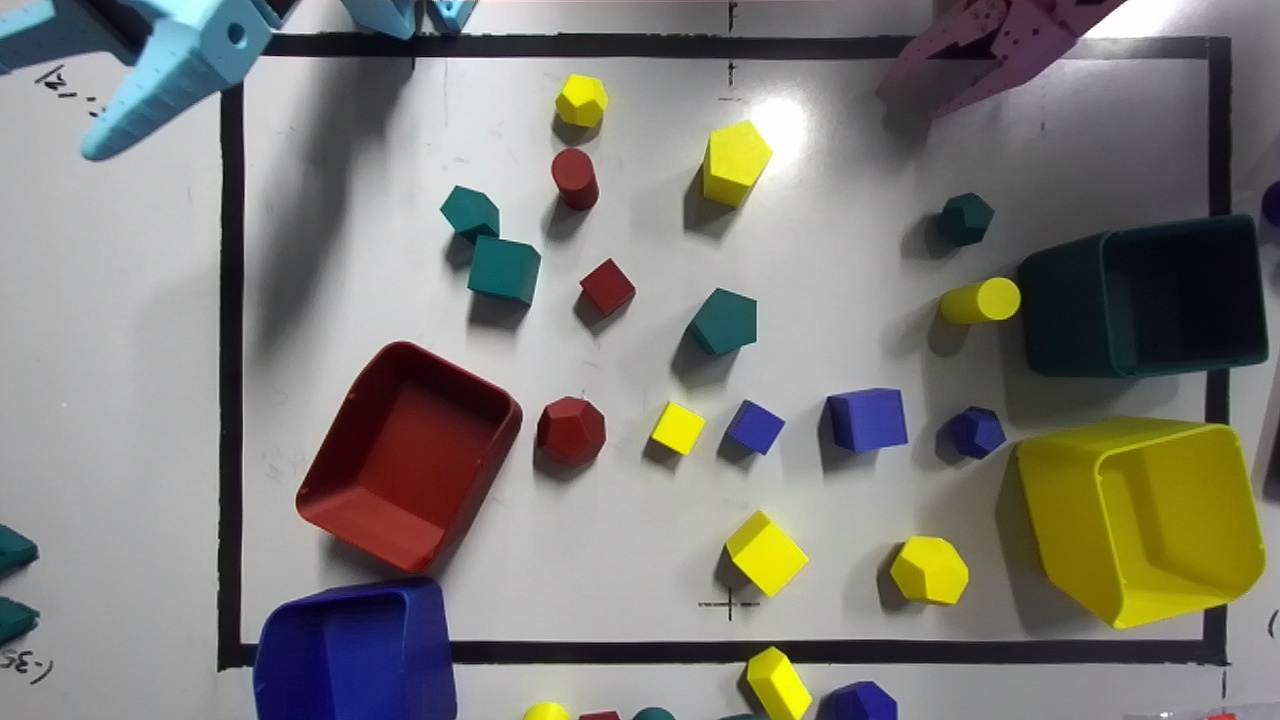bin: (1015, 417, 1265, 628), (296, 341, 521, 571), (1017, 215, 1268, 377), (253, 577, 456, 719)
cube: (725, 511, 807, 595), (826, 388, 907, 452), (468, 236, 540, 304), (725, 400, 785, 454), (579, 258, 635, 315), (649, 402, 704, 454)
cylinder: (939, 277, 1020, 323), (551, 148, 598, 209)
dodecahedron: (890, 536, 968, 603), (537, 397, 605, 466), (937, 193, 994, 245), (947, 407, 1005, 458), (555, 74, 607, 127)
hexagonal: (703, 121, 771, 206), (687, 288, 756, 354), (440, 185, 499, 243)
